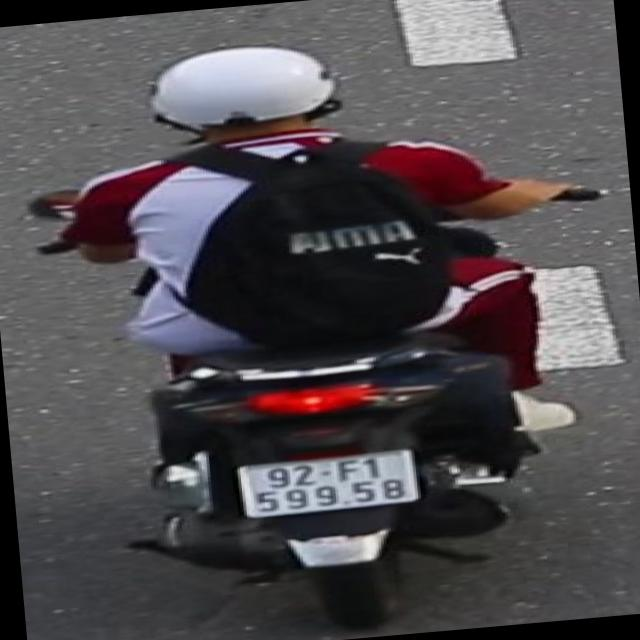LP: (234, 442, 430, 522)
helmet: (138, 32, 352, 162)
